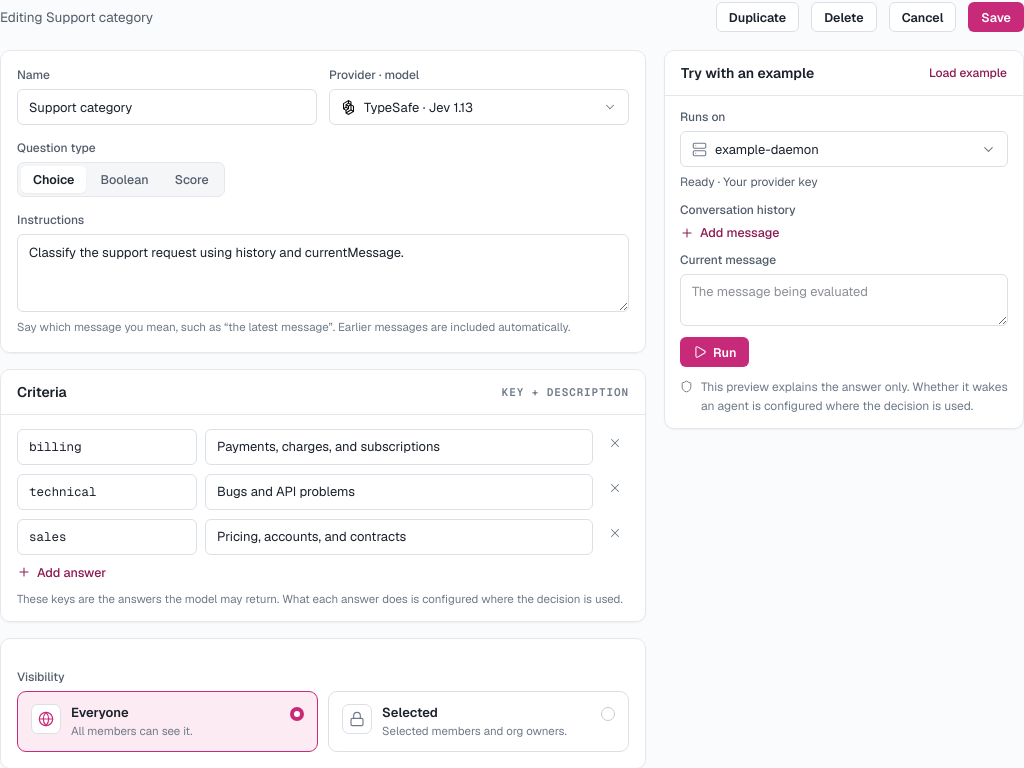
Scenario: DecisionEditorView › refuses to delete a decision a consumer still uses from the editor
Click the button "Delete" at (844, 17), box [811,2,877,32]
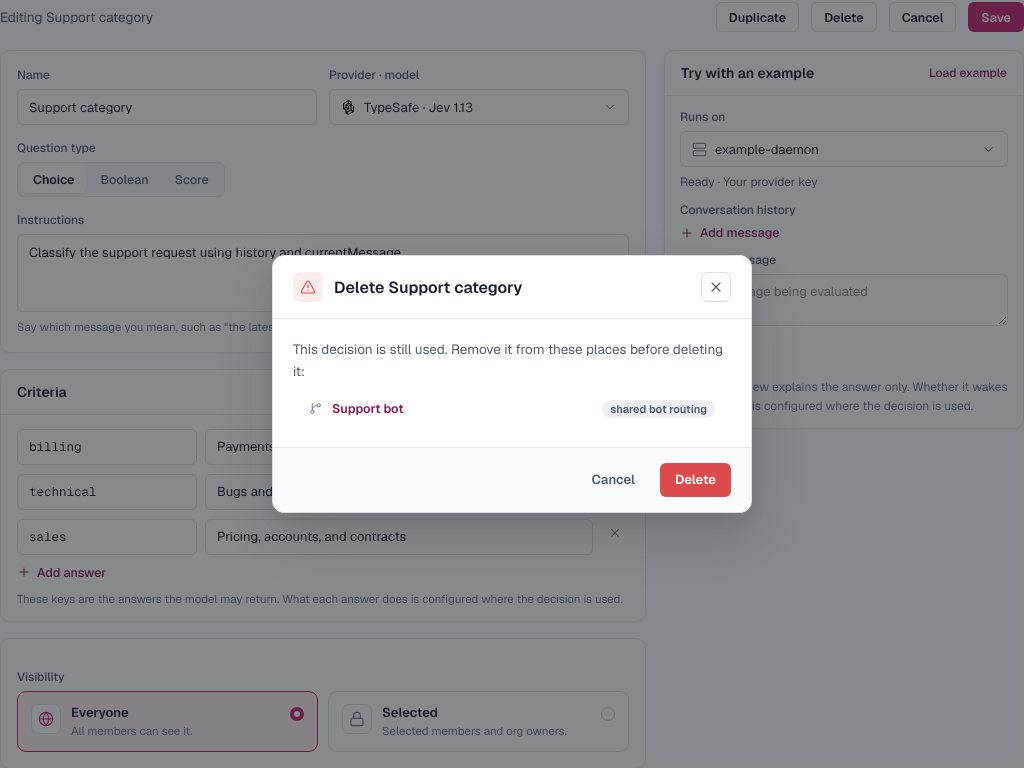
Result: the dialog shows "Delete Support category" at [334,277,522,298]
Result: the dialog shows "This decision is still used. Remove it from these places before deleting it:" at [293,340,723,380]
Result: the dialog shows "Support bot" at [332,400,592,417]
Click the button "Delete" at (695, 480), box [660,463,731,497]
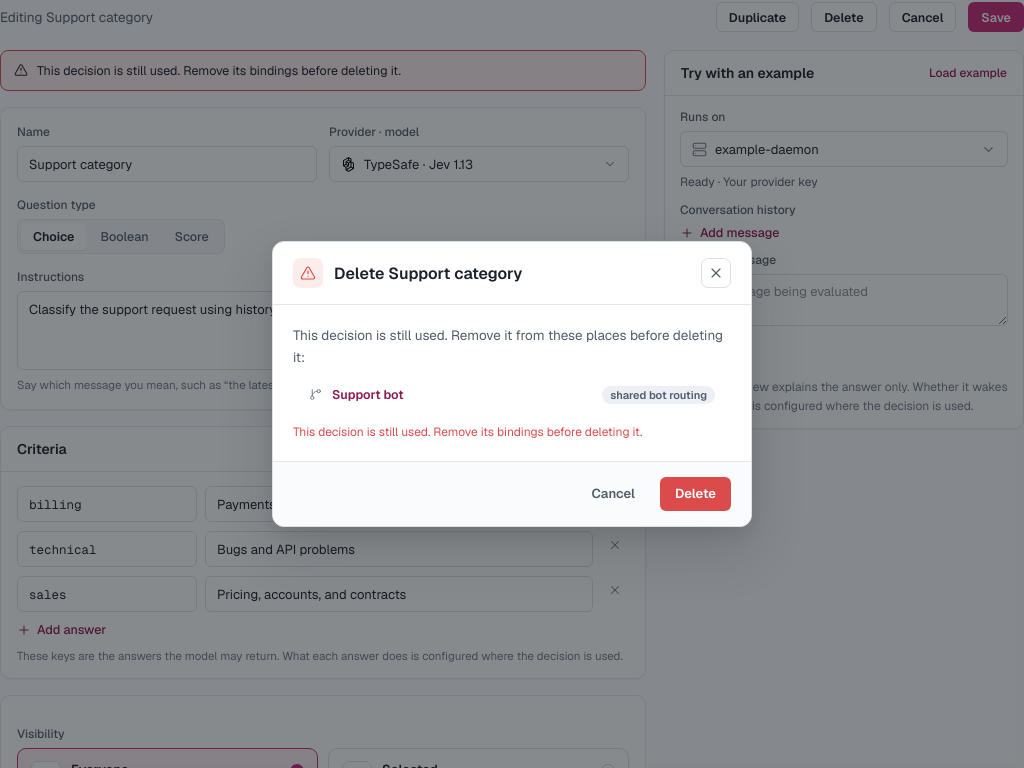
Result: the dialog shows "Support bot" at [332,386,592,403]
Result: the dialog shows "This decision is still used. Remove its bindings before deleting it." at [293,424,642,440]
